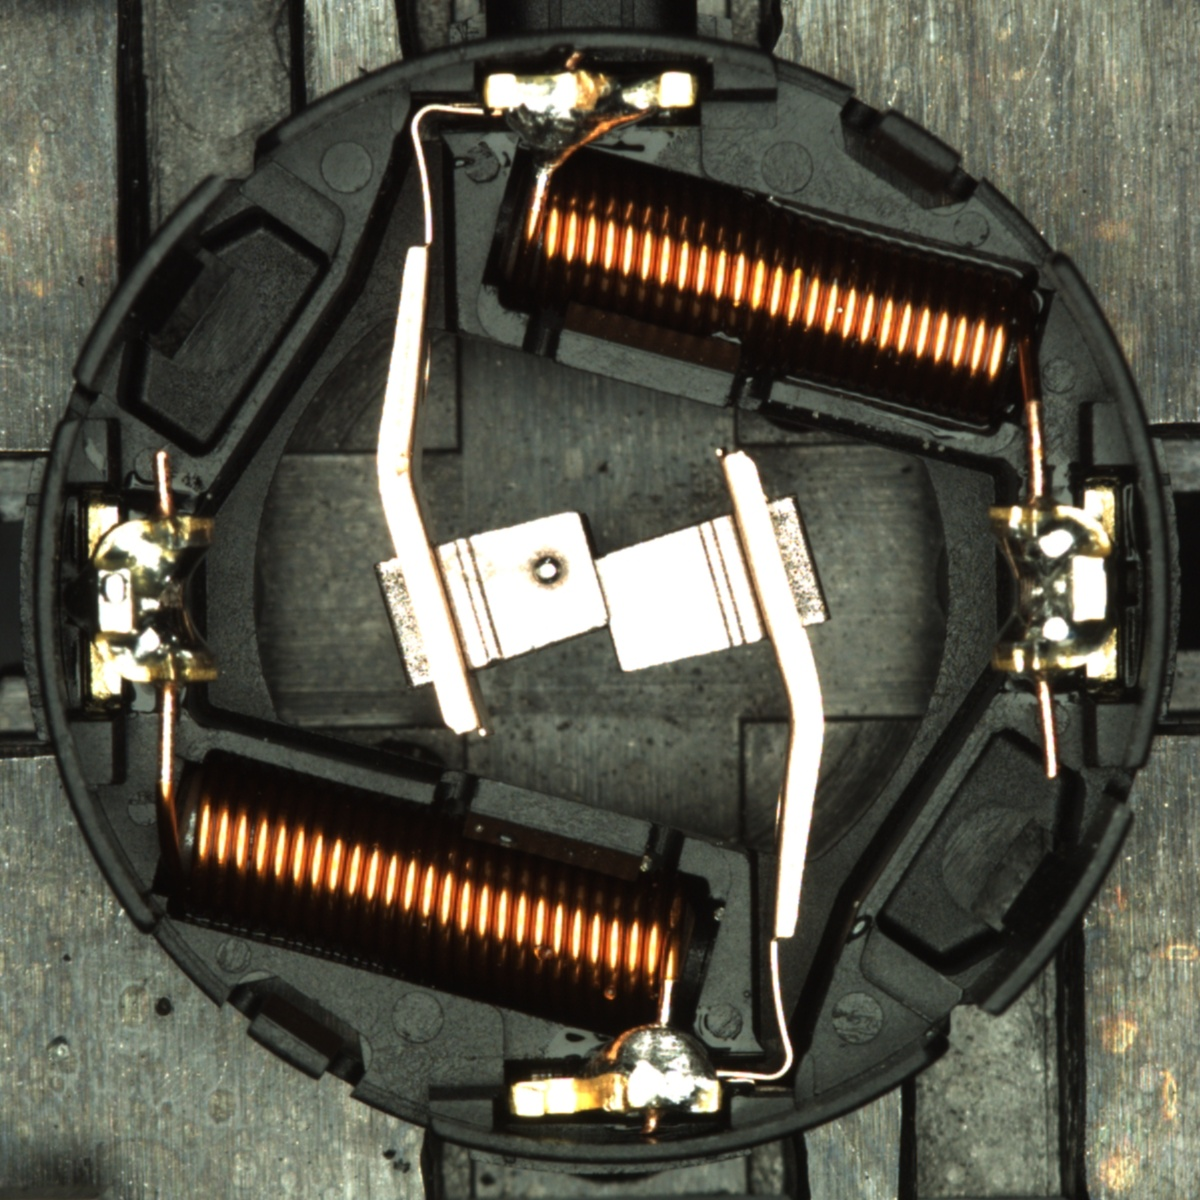1: (258, 55, 487, 279), (716, 953, 945, 1177)
2: (716, 55, 945, 279), (258, 953, 487, 1177)
3: (29, 279, 258, 503), (945, 729, 1175, 953)
4: (258, 279, 487, 503), (716, 729, 945, 953)
5: (487, 167, 716, 391), (487, 841, 716, 1065)
6: (716, 279, 945, 503), (258, 729, 487, 953)
7: (945, 279, 1175, 503), (29, 729, 258, 953)
bui_chi: (531, 553, 565, 588)
chau_dien: (81, 498, 222, 699), (984, 487, 1123, 685)
di_vat: (530, 555, 564, 586)
hat_chi: (531, 554, 565, 587)
tay_choi: (484, 66, 700, 167), (507, 1019, 723, 1119)
thanh_de: (954, 785, 1141, 1033), (59, 164, 245, 405)
